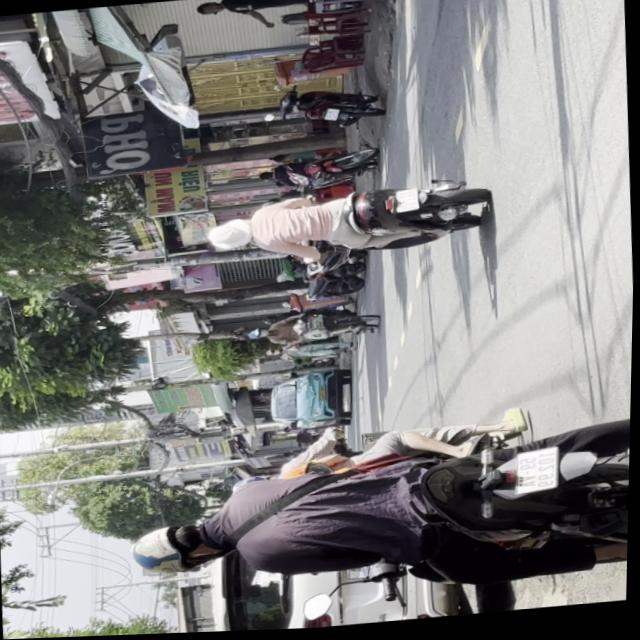helmet: (131, 517, 233, 576)
licenseplate: (122, 407, 633, 628), (202, 177, 492, 272)
motorcyclist: (205, 220, 253, 252)
nohelmet: (515, 451, 559, 498), (394, 192, 419, 215)
